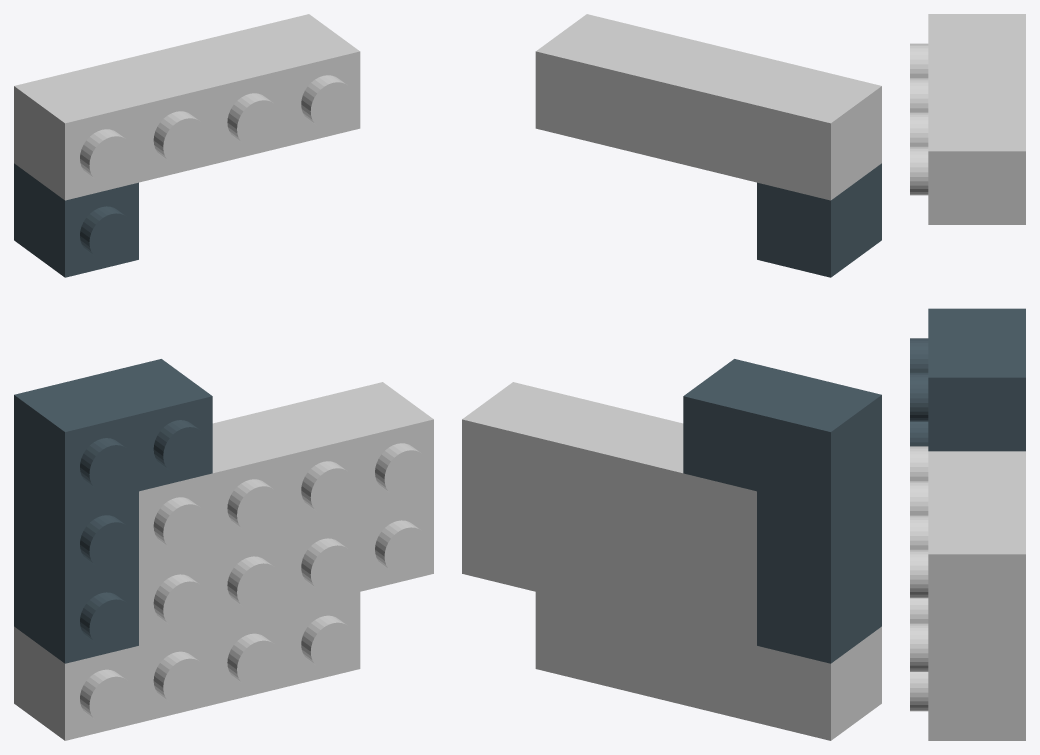
File: current.glb
3 renders of one model, left to right at view 1: azimuth 30°, elevation 25°; view 2: azimuth 150°, elevation 25°; view 3: azimuth 270°, elevation 25°, orthographic. The views are drawn at different scales.
Visible parts, largest first — view 1: world; view 2: world; view 3: world.
Part boxes in pixels (bbox=[...]): world: bbox=[14, 14, 433, 740]; world: bbox=[462, 14, 881, 740]; world: bbox=[910, 14, 1025, 740].
Bounding box in the file's own units: 40 × 64 × 11.4.
